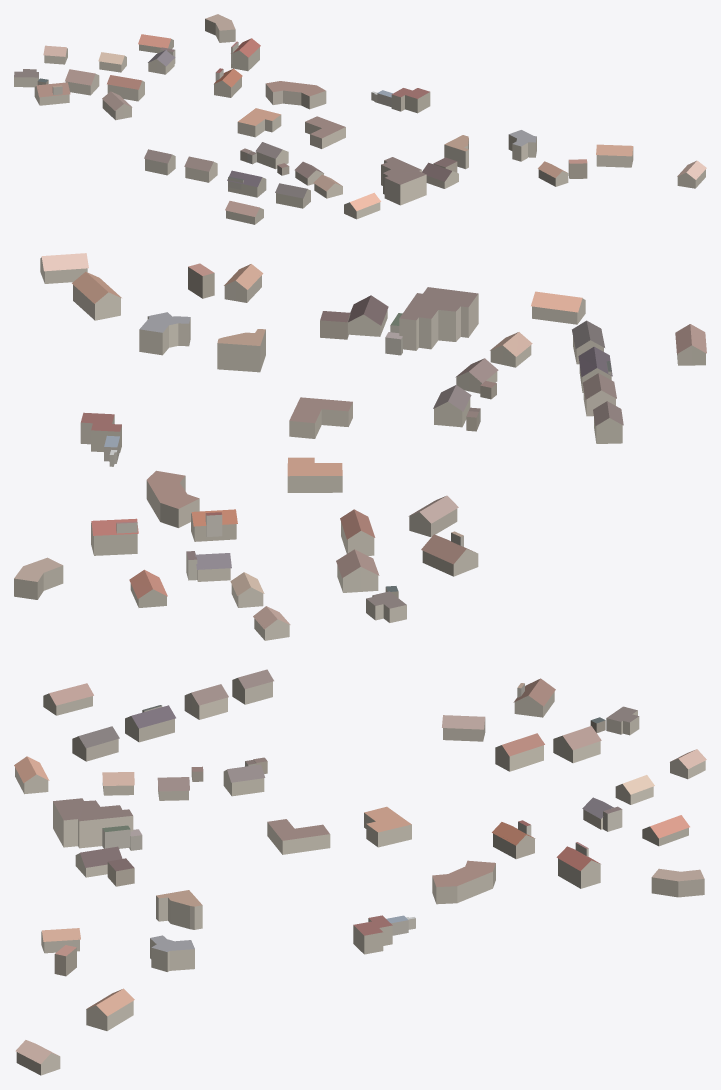
3 views of the same model, one above another, from view 1: azimuth 30°, elevation 25°; view 2: azimuth 150°, elevation 25°; view 3: azimuth 270°, elevation 25° (orthographic). The views are drawn at different scales.
Parts seen in each view (by area): view 1: tuile; view 2: tuile; view 3: tuile.
Part boxes in pixels (x1,y1,x2,y2): tuile: (14,14,706,224); tuile: (14,253,706,640); tuile: (14,669,706,1075).
Bounding box in the file's own units: 264 × 41.64 × 250.
